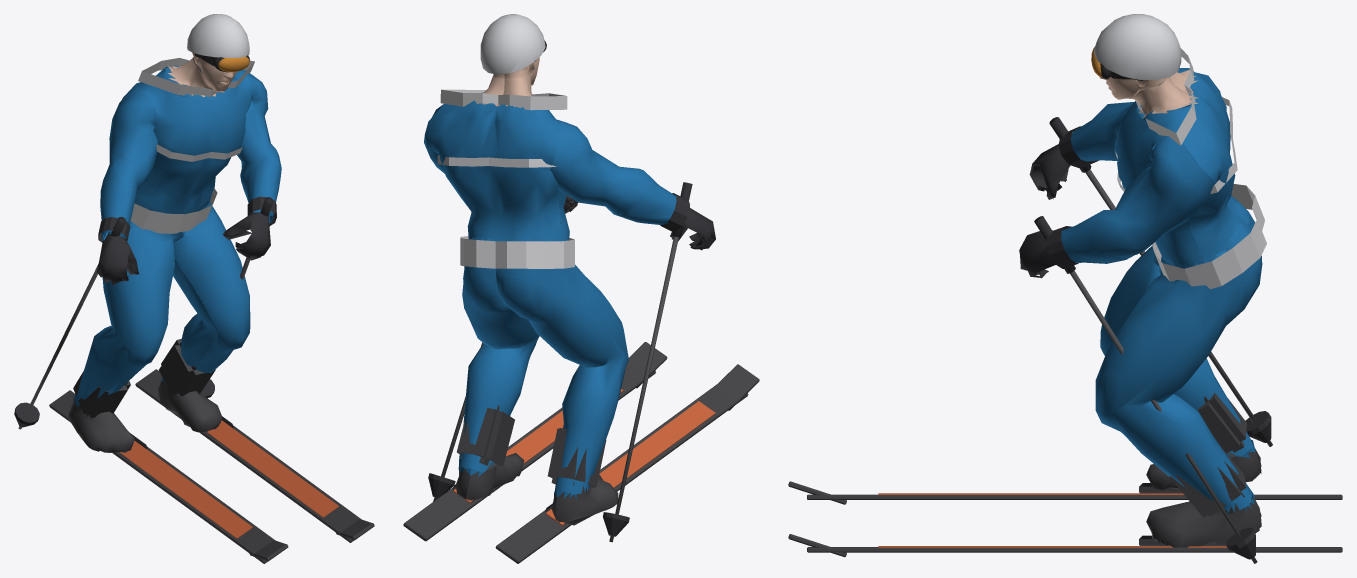
Rendered from skier-lean-left.glb.
3 views of the same model, side by side, from view 1: azimuth 30°, elevation 25°; view 2: azimuth 150°, elevation 25°; view 3: azimuth 270°, elevation 25° (orthographic). The views are drawn at different scales.
Visible parts, largest first — view 1: skier-lean-left; view 2: skier-lean-left; view 3: skier-lean-left.
Boxes of the visible parts, x1,y1,x2,y2 form: skier-lean-left: (14,14,374,563); skier-lean-left: (403,14,759,563); skier-lean-left: (788,14,1342,563).
Bounding box in the file's own units: 0.867 × 1.65 × 1.54.
